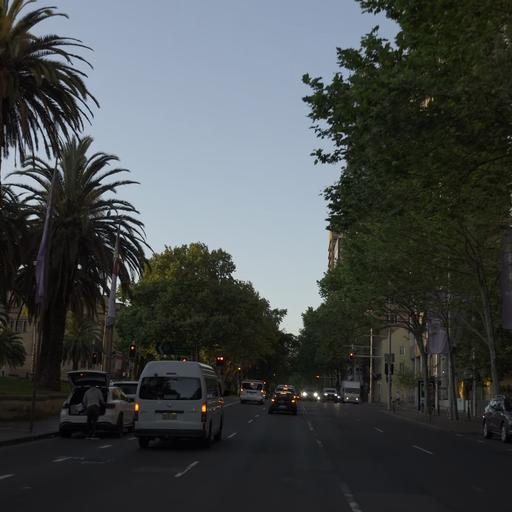Street light: (128, 341, 136, 358), (216, 354, 223, 363), (348, 351, 354, 360), (314, 374, 319, 380)
